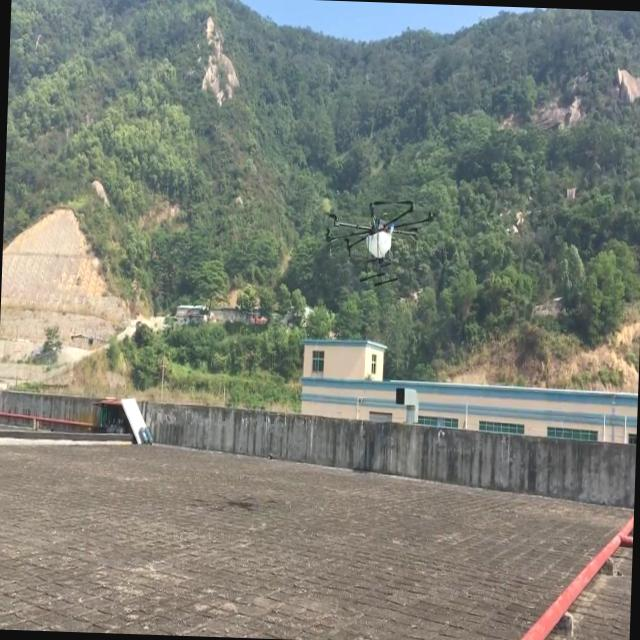drone: (322, 190, 438, 290)
